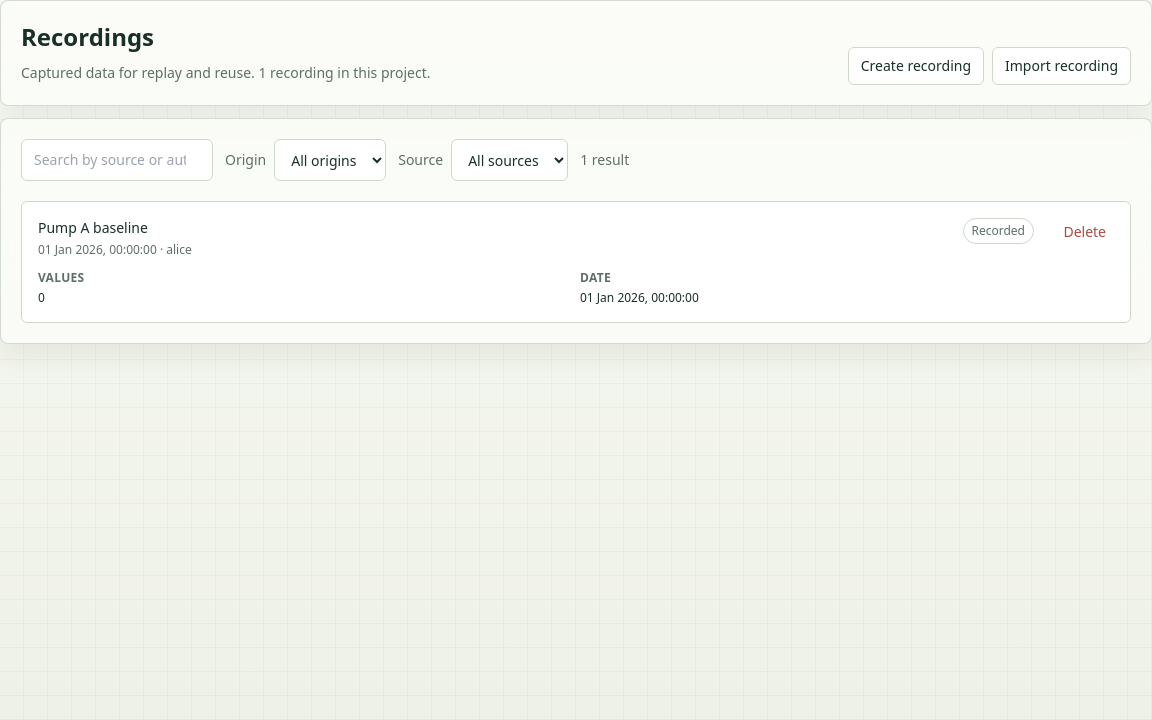
Test: RecordingsPage — name display (UI-131) › search filters by name: non-matching query hides the row
The image size is (1152, 720).
Type "zzznomatch" into the search field with placeholder "Search by source or author" at (117, 160), box [21,139,213,181]
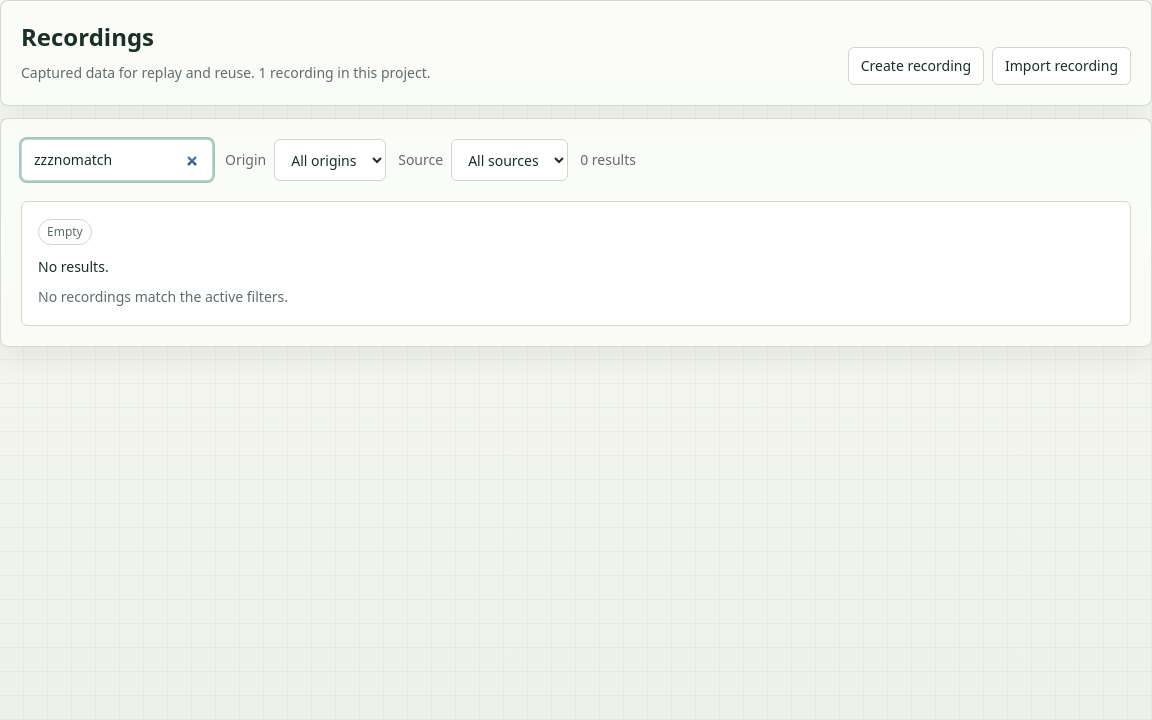
Now the button "Pump A baseline" is gone
